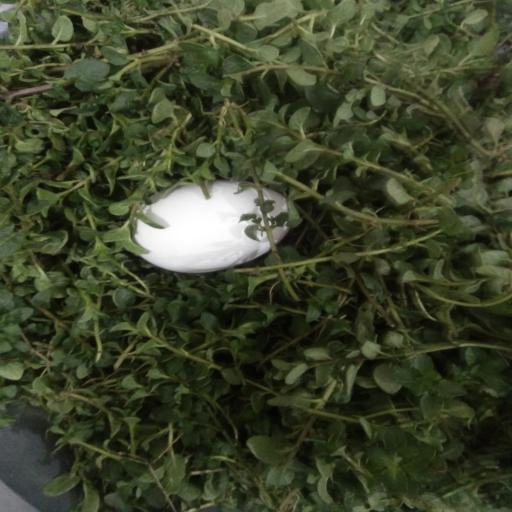telur: (130, 178, 294, 273)
